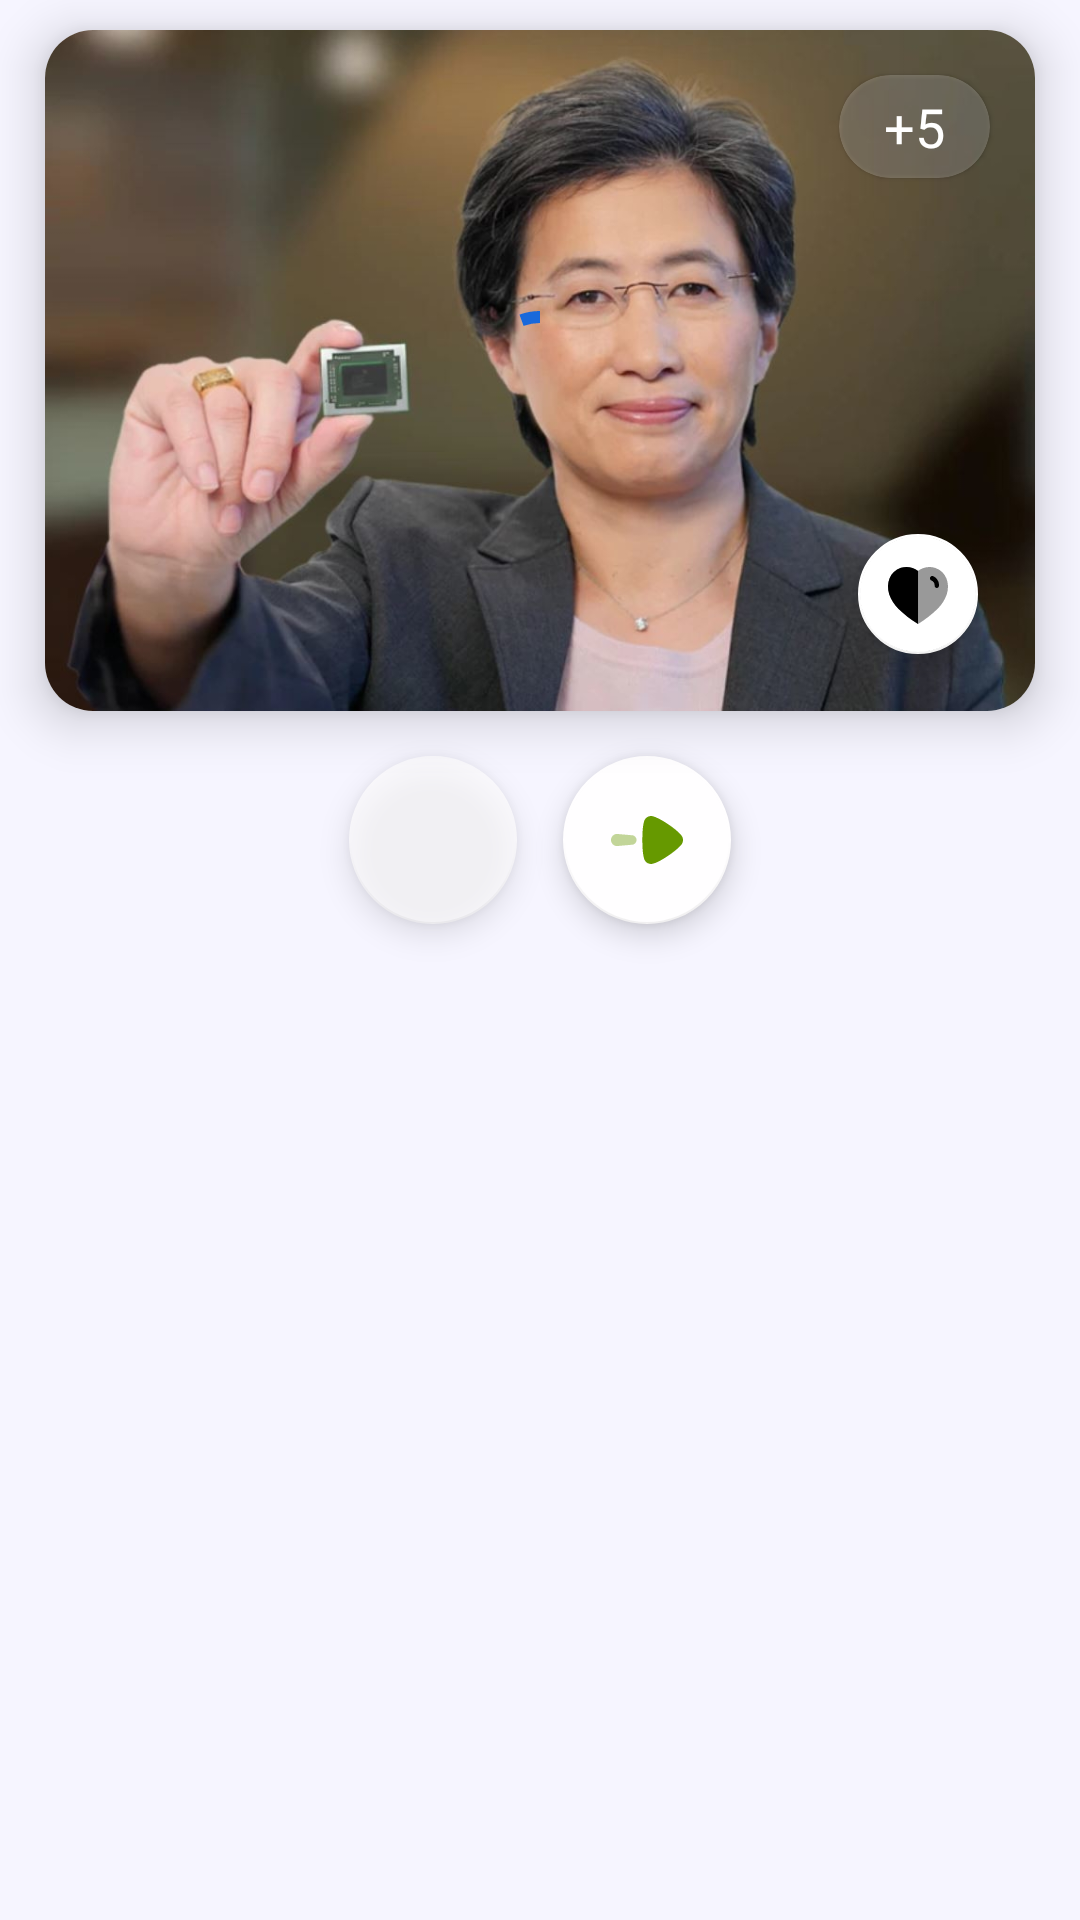

Where to tap for icons on this 1080w x 1920h app screen, as [x,y]:
arrow right: [647,840]
heart: [918,594]
